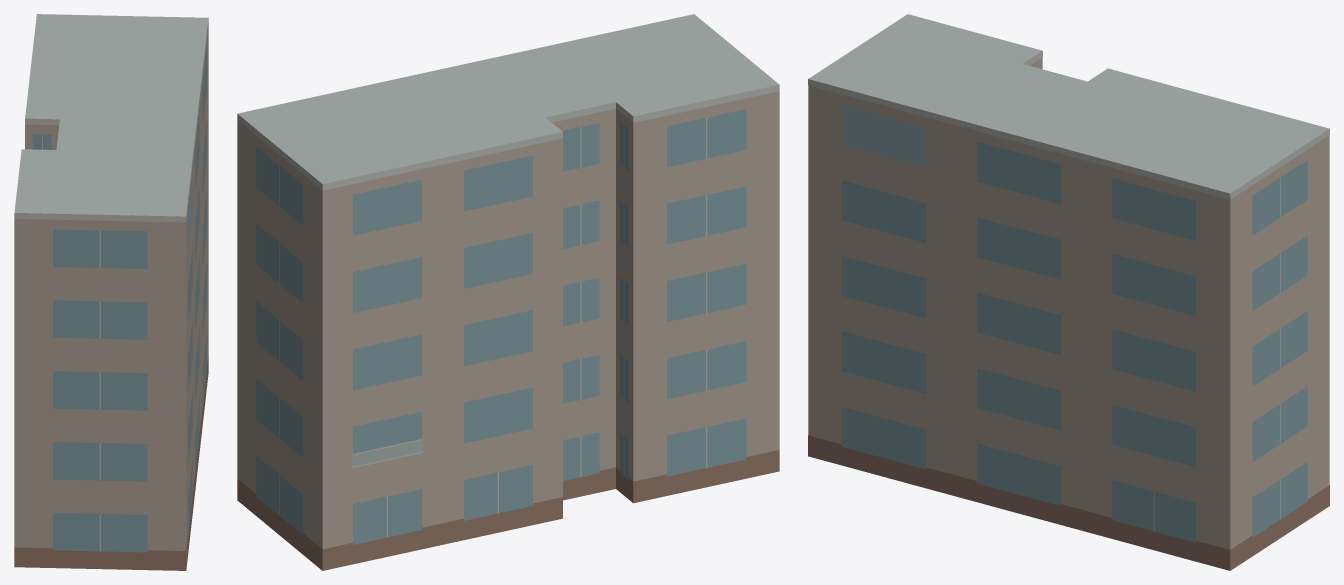
Rendered from survey-upis-32788648.glb.
The picture shows the model from 3 angles, left to right: view 1: azimuth 30°, elevation 25°; view 2: azimuth 150°, elevation 25°; view 3: azimuth 270°, elevation 25°; orthographic projection. The views are drawn at different scales.
Parts seen in each view (by area): view 1: survey-upis-32788648.tmp; view 2: survey-upis-32788648.tmp; view 3: survey-upis-32788648.tmp.
Part boxes in pixels (left/top/right/bottom): survey-upis-32788648.tmp: left=14, top=14, right=208, bottom=570; survey-upis-32788648.tmp: left=237, top=14, right=779, bottom=570; survey-upis-32788648.tmp: left=808, top=14, right=1329, bottom=570.
Bounding box in the file's own units: 14.86 × 14.55 × 18.24.
